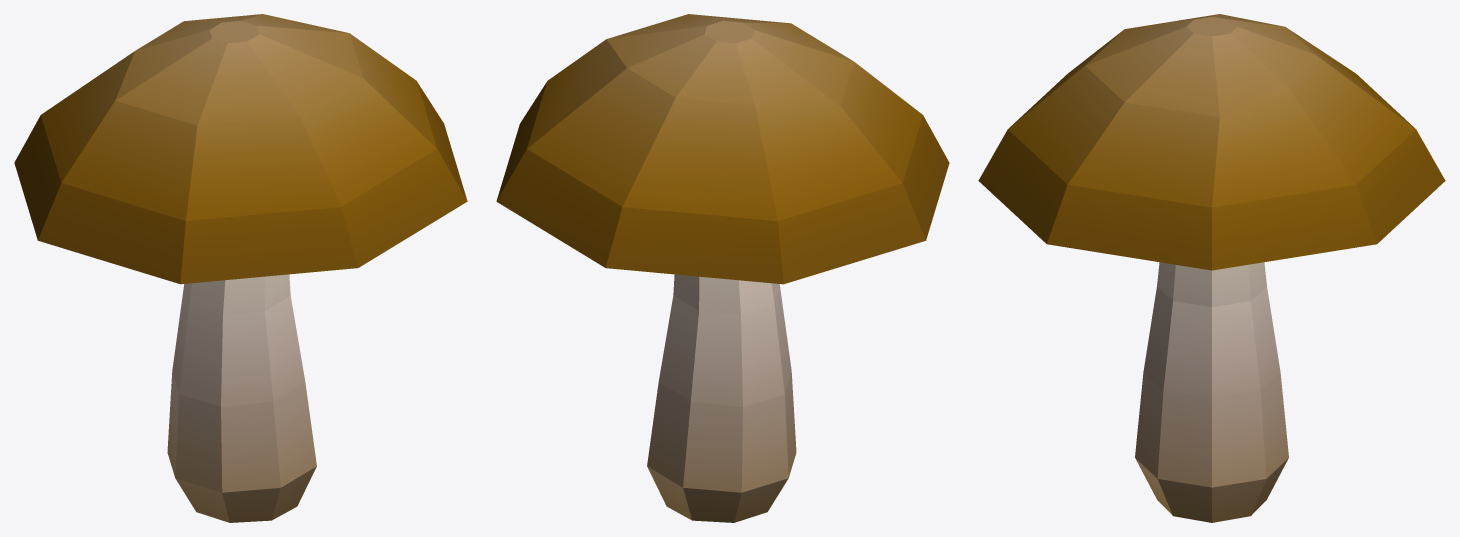
File: Gradient_Mushroom_Brown_small.glb
3 renders of one model, left to right at view 1: azimuth 30°, elevation 25°; view 2: azimuth 150°, elevation 25°; view 3: azimuth 270°, elevation 25°, orthographic.
Visible parts, largest first — view 1: Brown Mushroom small g; view 2: Brown Mushroom small g; view 3: Brown Mushroom small g.
Boxes of the visible parts, x1,y1,x2,y2 form: Brown Mushroom small g: (14,14,467,522); Brown Mushroom small g: (496,14,949,522); Brown Mushroom small g: (978,14,1445,522).
Bounding box in the file's own units: 0.4544 × 0.5041 × 0.4548.
1 material, 1 textured.
